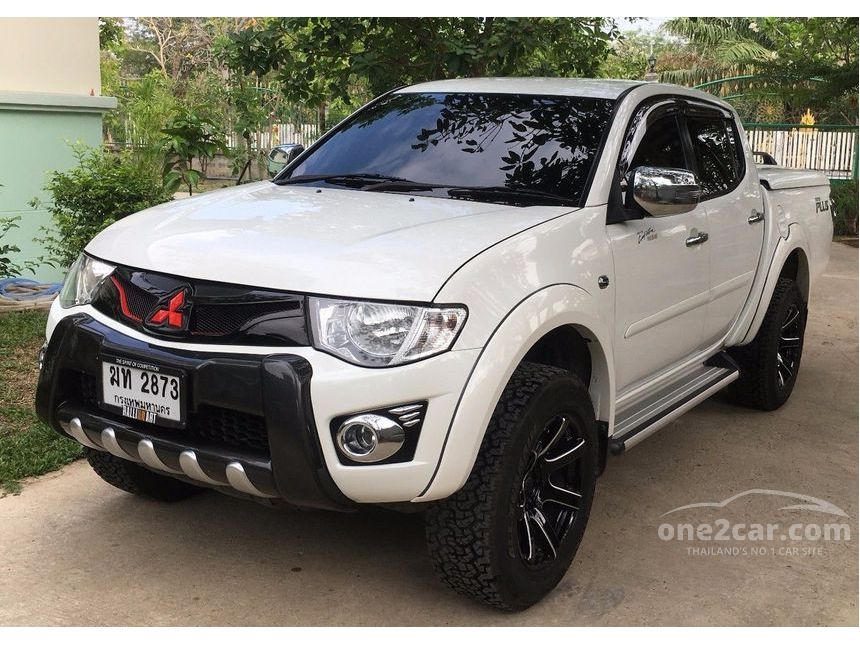pickup: (40, 74, 825, 607)
